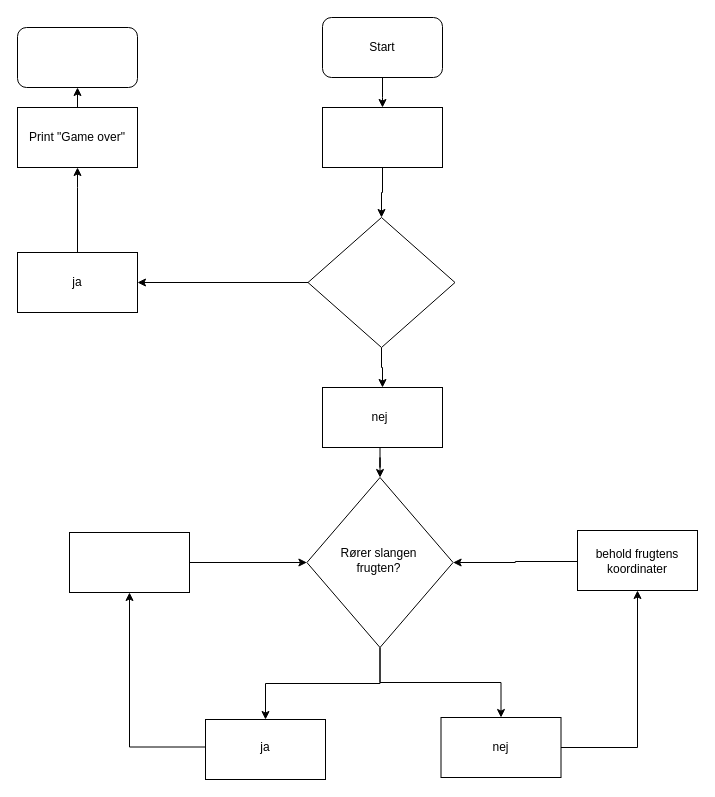
This 715x797 diagram has some shape labels left out. Here are the shapes that lost their labels. From the top down, the centre of each, then its label:
At [77,57]: "Slut".
At [382,137]: "Tegn slange".
At [381,282]: "Rører slange en mur eller sig selv?".
At [129,562]: "Opdater frugtens koordinater samt øg slangens længde".
